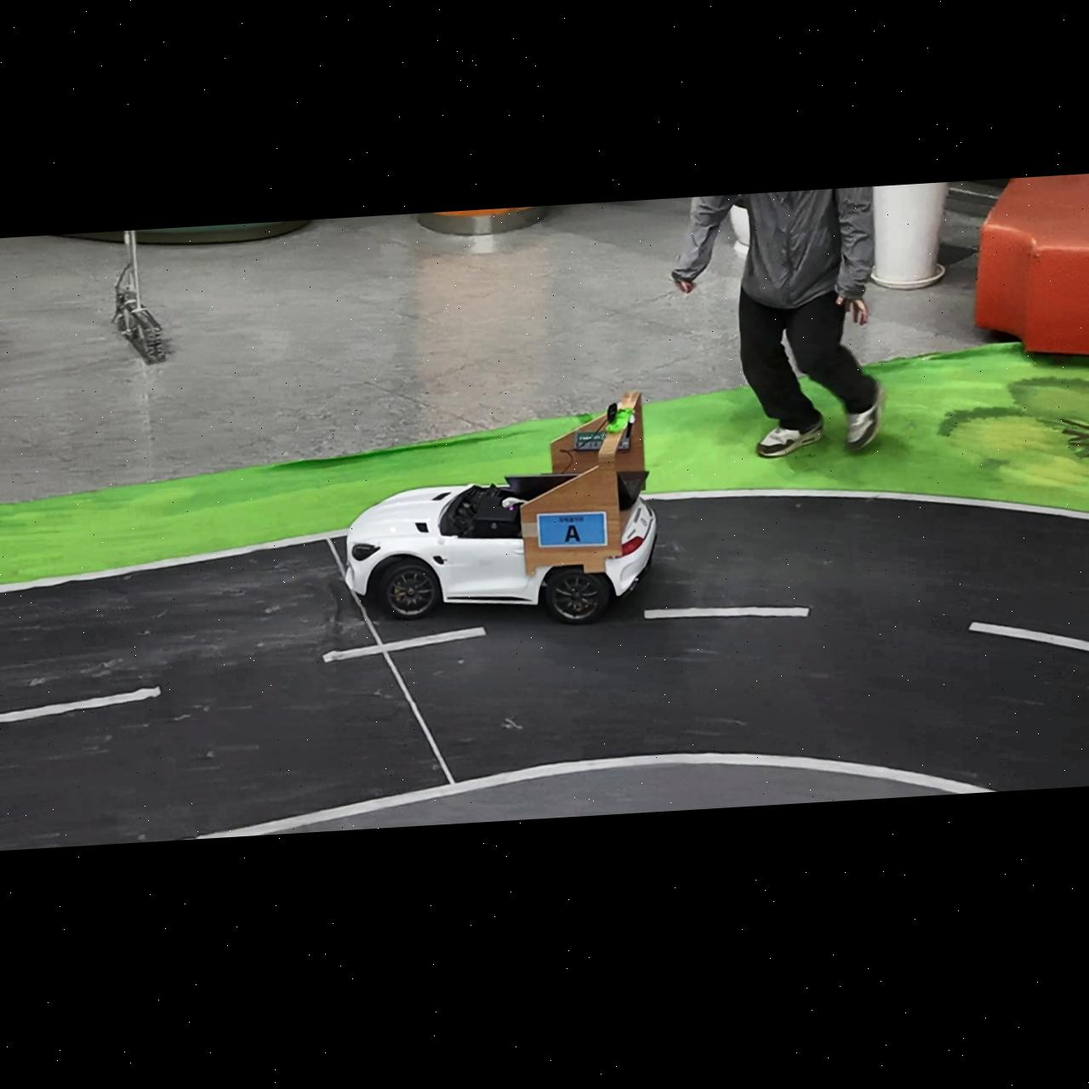broken_line: (323, 626, 487, 663), (0, 687, 161, 723), (969, 622, 1088, 651), (644, 607, 810, 618)
